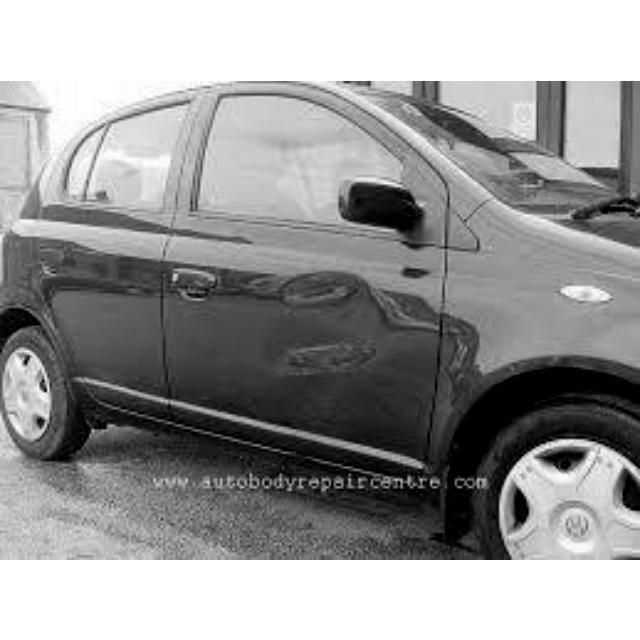doorouter-dent: (273, 236, 428, 416)
